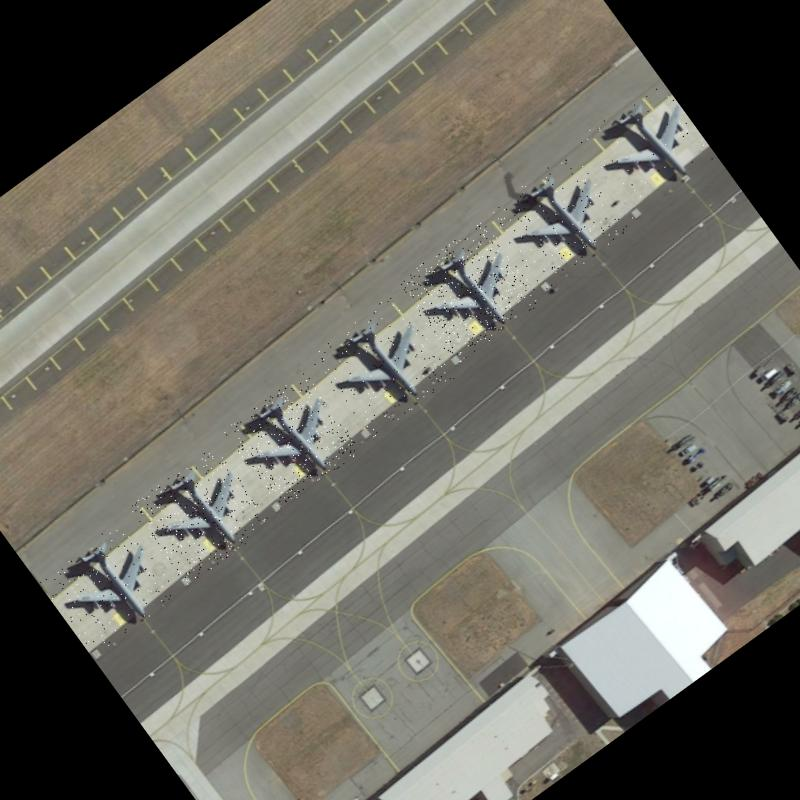A14: (307, 292, 455, 439), (396, 218, 543, 364), (128, 443, 273, 586), (486, 150, 630, 292), (574, 78, 716, 217), (38, 517, 179, 656), (223, 371, 362, 510)
